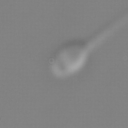normal: (87, 6, 128, 49)
